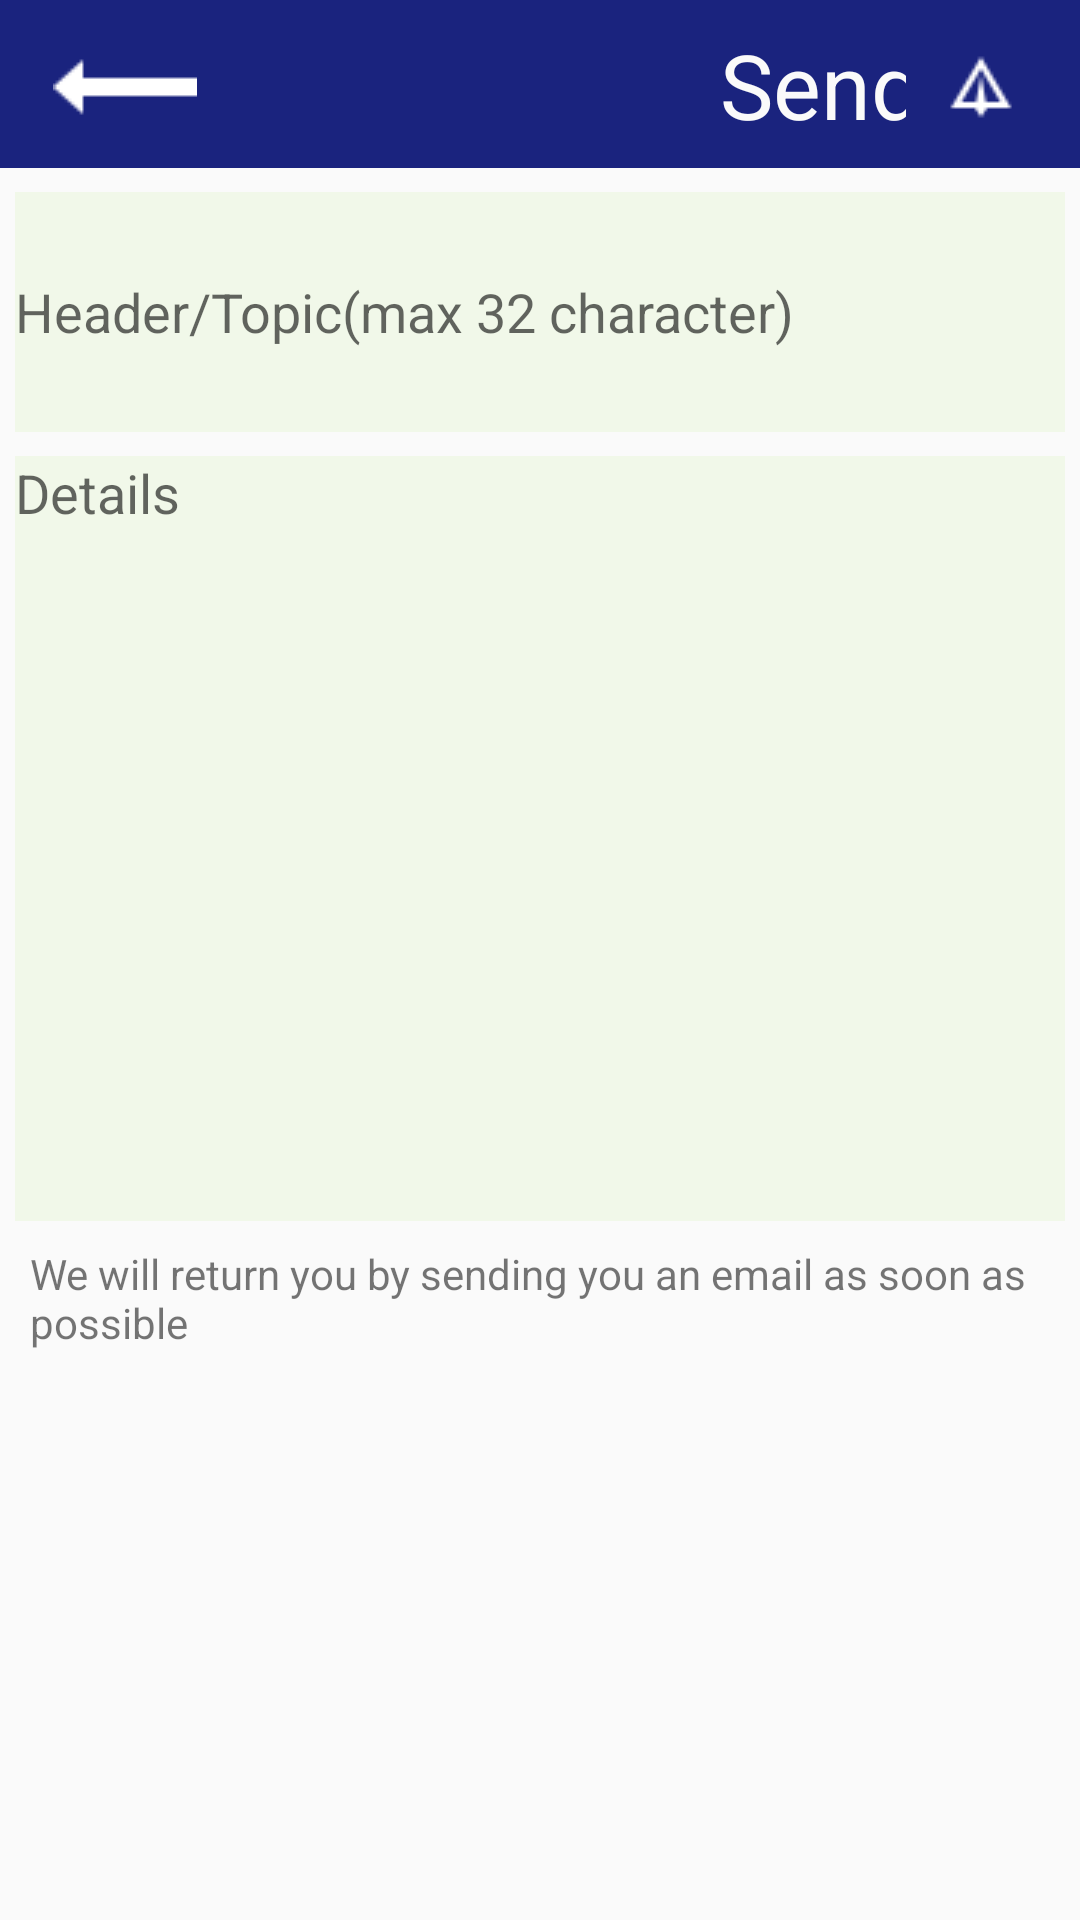

Point at icon controls on the screen. Image size 1080px x 1920px, points as (x=x, y=y).
arrow: (x=125, y=87)
paper plane: (x=981, y=87)
